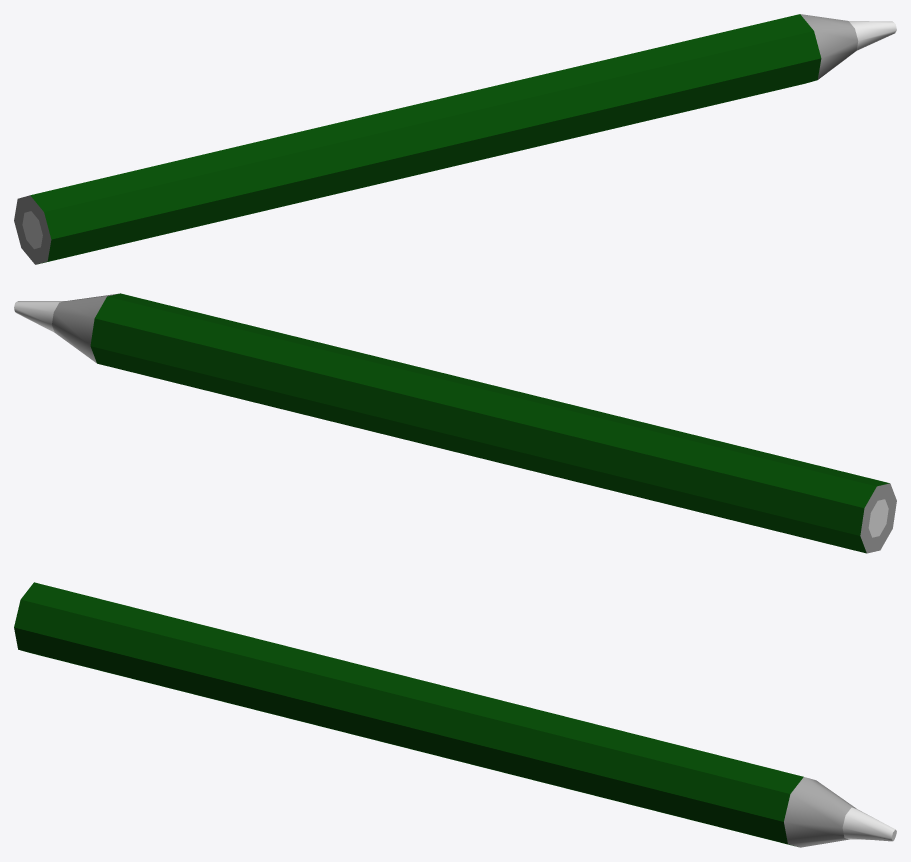
The model's file is Pencil.fbx.
3 renders of one model, top to bottom at view 1: azimuth 30°, elevation 25°; view 2: azimuth 150°, elevation 25°; view 3: azimuth 330°, elevation 25°, orthographic.
Parts seen in each view (by area): view 1: Pencil; view 2: Pencil; view 3: Pencil.
Part boxes in pixels (<box>): Pencil: <box>14,14,896,264</box>; Pencil: <box>14,293,896,553</box>; Pencil: <box>14,582,896,847</box>.
Bounding box in the file's own units: 30.19 × 2.32 × 2.51.
